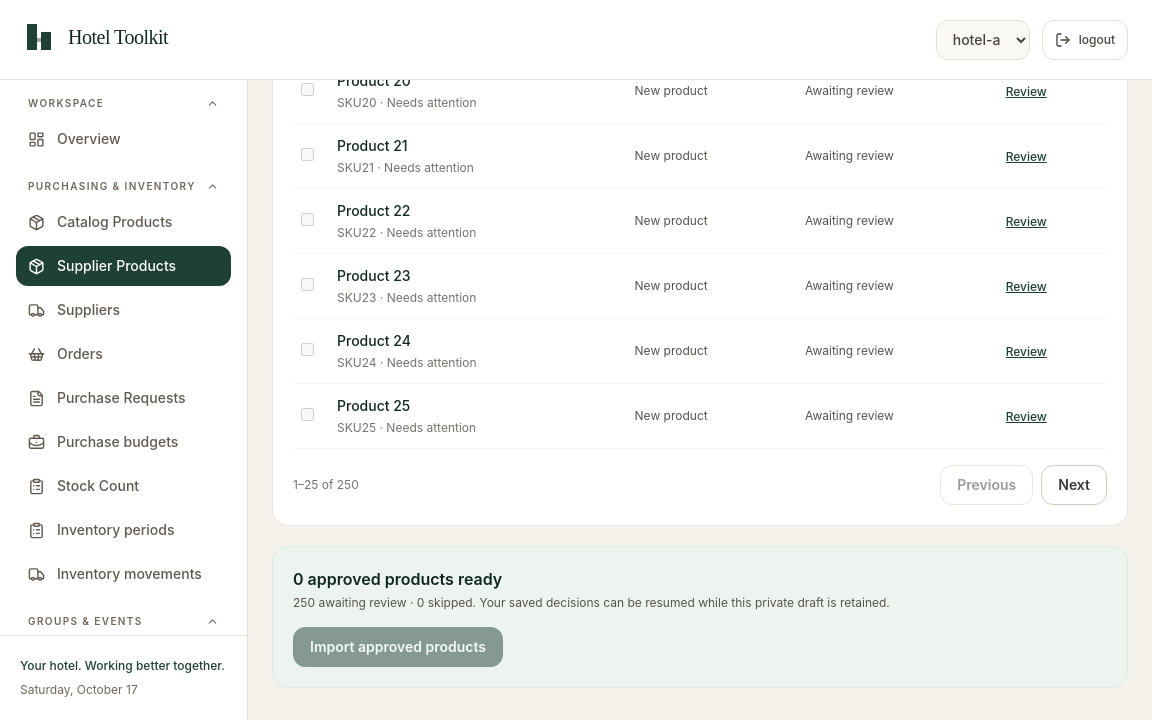
Test: shows complete 250-product totals in a compact 25-row table, with source details absent from the overview
The width and height of the screenshot is (1152, 720).
(page scrolled)
Expected: the text "1–25 of 250" is shown, [293, 477, 359, 493]
Click the button "Next" at (1074, 485), box [1041, 465, 1107, 505]
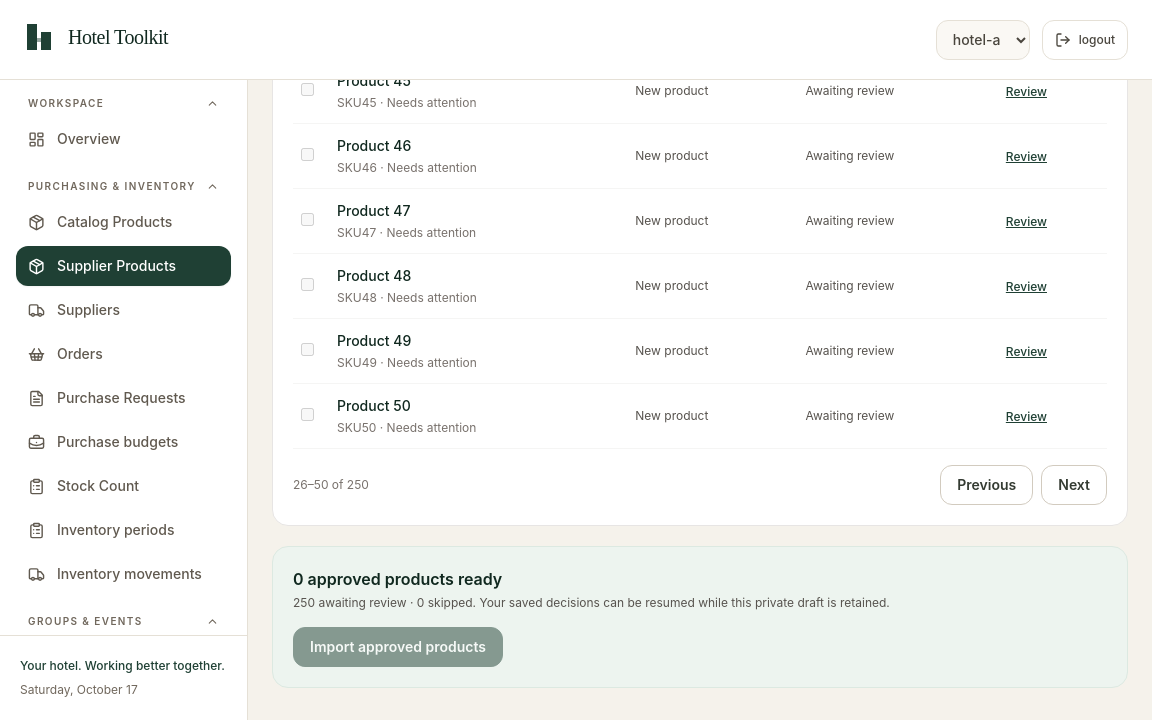
Now the text "26–50 of 250" is shown, box [293, 477, 369, 493]
